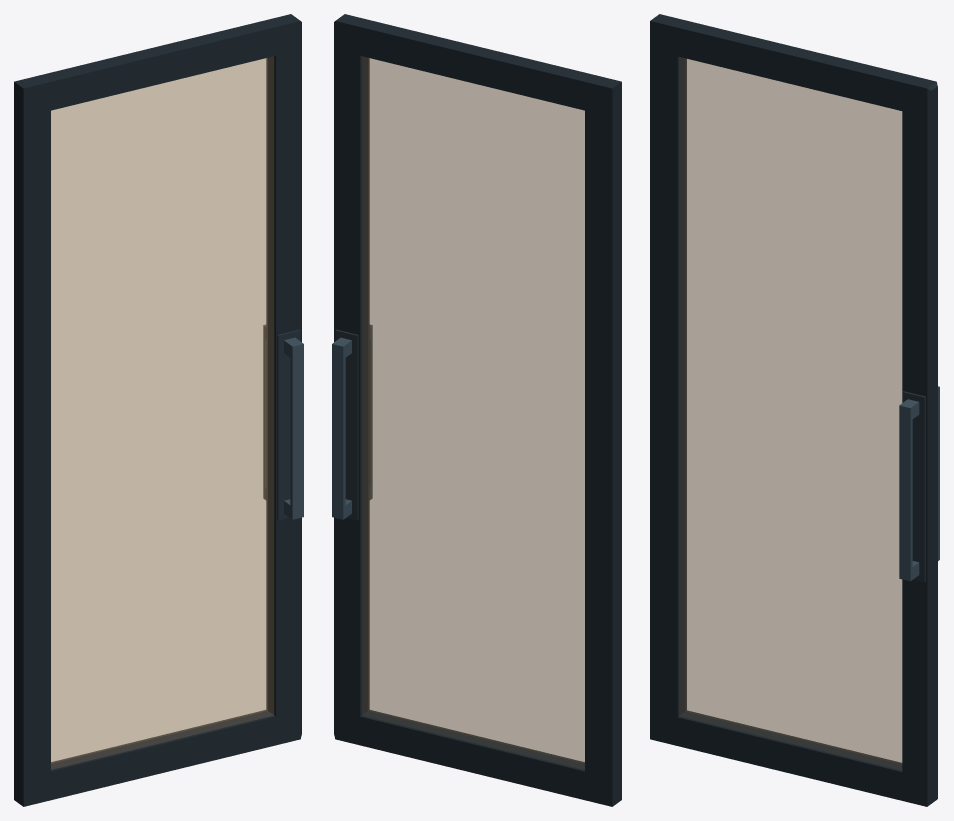
The model's file is SM_Buildings_Skyscraper_02_Door_L.fbx.
The picture shows the model from 3 angles, left to right: view 1: azimuth 30°, elevation 25°; view 2: azimuth 150°, elevation 25°; view 3: azimuth 330°, elevation 25°; orthographic projection.
Visible parts, largest first — view 1: SM_Buildings_Skyscraper_02_Door_L; view 2: SM_Buildings_Skyscraper_02_Door_L; view 3: SM_Buildings_Skyscraper_02_Door_L.
Boxes of the visible parts, <box> form: SM_Buildings_Skyscraper_02_Door_L: <box>14,14,303,806</box>; SM_Buildings_Skyscraper_02_Door_L: <box>332,14,621,806</box>; SM_Buildings_Skyscraper_02_Door_L: <box>650,14,939,806</box>.
Size of the model in its own units: 1.02 by 2.5 by 0.1854.
